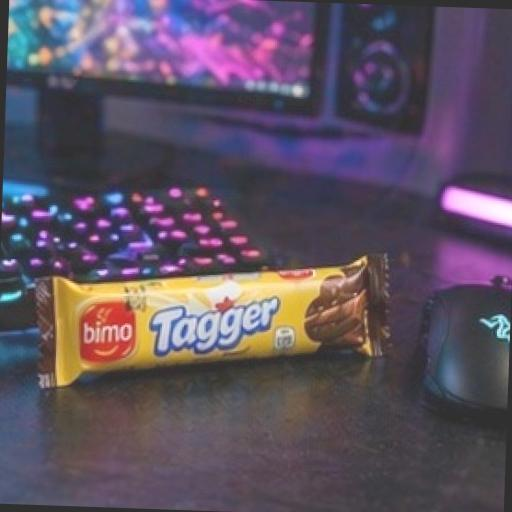tagger: (16, 232, 443, 442)
